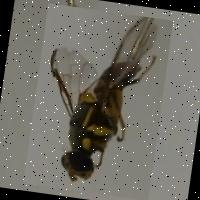Oriental-fruit-fly: (22, 1, 172, 200)
